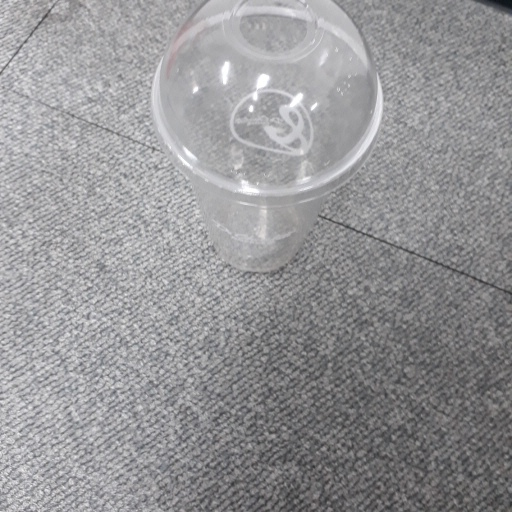Plastic_2: (149, 1, 384, 279)
